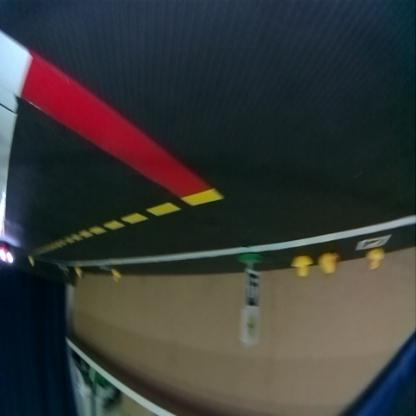Duckie: (293, 257, 312, 278), (366, 249, 384, 270), (320, 255, 338, 273), (112, 270, 120, 282), (74, 269, 82, 278)
Intersection sign: (244, 314, 258, 340)
QR code: (356, 235, 390, 252), (246, 272, 260, 308)
